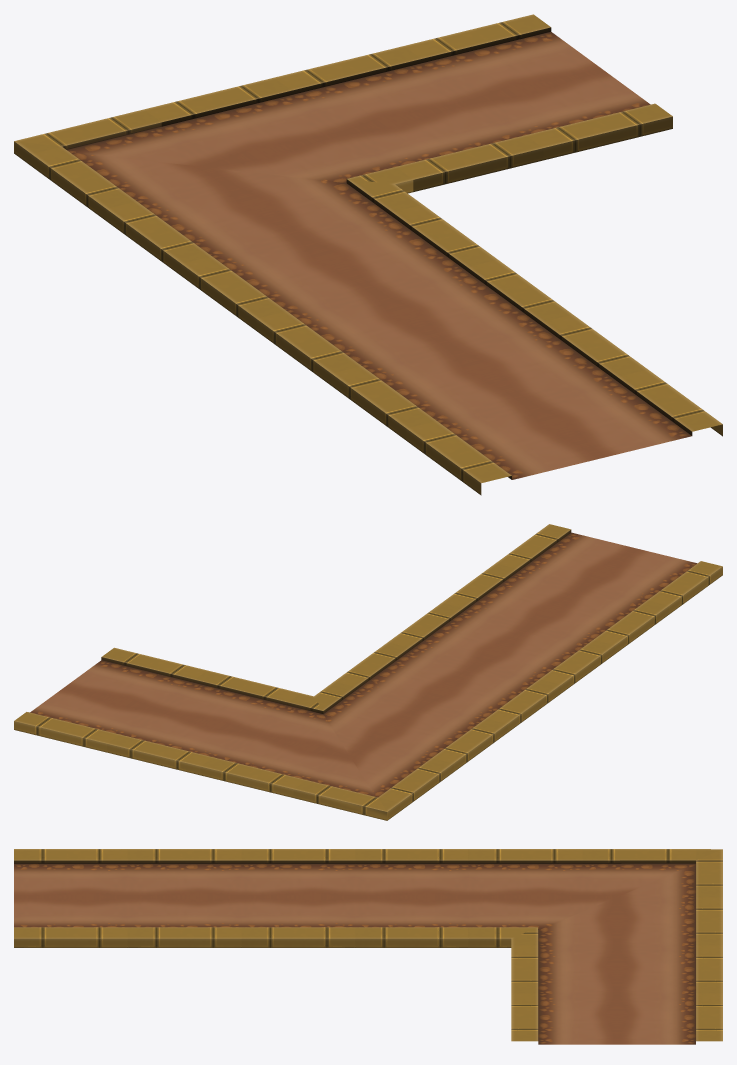
Rendered from RoadPiece_14.FBX.
The picture shows the model from 3 angles, top to bottom: view 1: azimuth 30°, elevation 25°; view 2: azimuth 150°, elevation 25°; view 3: azimuth 270°, elevation 25°; orthographic projection. The views are drawn at different scales.
Parts seen in each view (by area): view 1: RoadPiece_14; view 2: RoadPiece_14; view 3: RoadPiece_14.
Part boxes in pixels (x1=…): RoadPiece_14: x1=14, y1=14, x2=722, y2=495; RoadPiece_14: x1=14, y1=524, x2=722, y2=820; RoadPiece_14: x1=14, y1=849, x2=722, y2=1044.
Bounding box in the file's own units: 3.51 × 0.0795 × 5.46.
